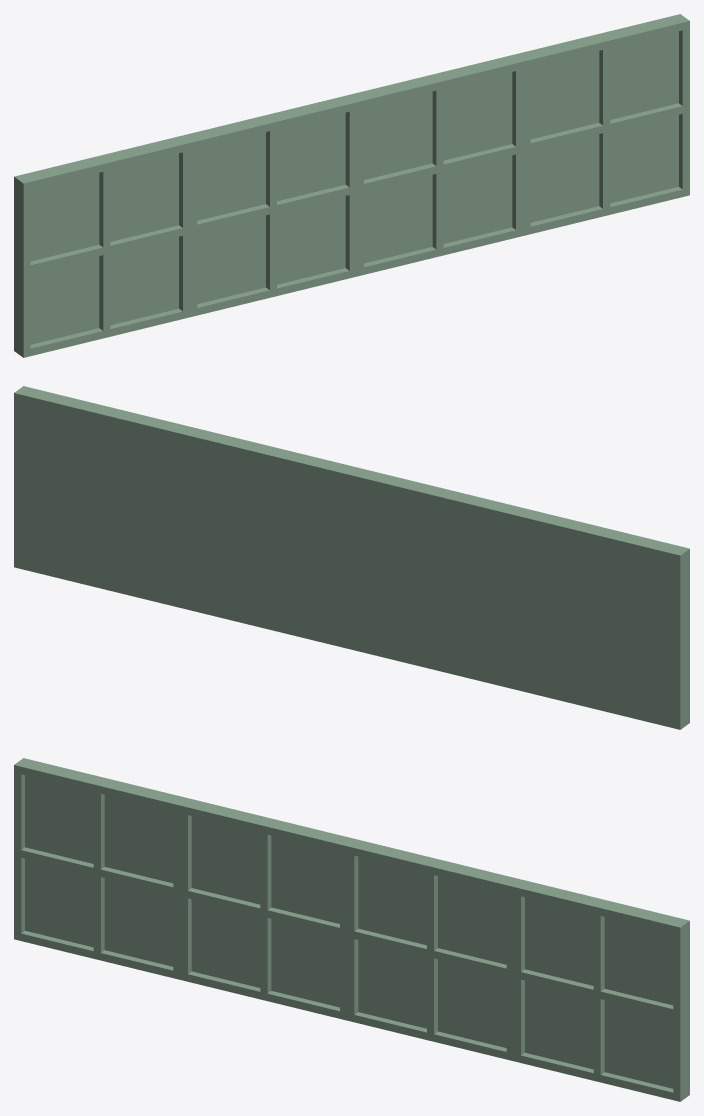
File: LockFrames.fbx
3 views of the same model, one above another, from view 1: azimuth 30°, elevation 25°; view 2: azimuth 150°, elevation 25°; view 3: azimuth 330°, elevation 25° (orthographic).
Parts seen in each view (by area): view 1: MainFrame, MainFrame2, MainFrame1, MainFrame3; view 2: MainFrame, MainFrame2, MainFrame1, MainFrame3; view 3: MainFrame3, MainFrame1, MainFrame2, MainFrame.
Boxes of the visible parts, x1=… form: MainFrame: x1=14, y1=136, x2=190, y2=357; MainFrame2: x1=347, y1=54, x2=523, y2=276; MainFrame1: x1=181, y1=95, x2=356, y2=317; MainFrame3: x1=514, y1=14, x2=689, y2=235; MainFrame: x1=513, y1=508, x2=689, y2=729; MainFrame2: x1=180, y1=426, x2=356, y2=648; MainFrame1: x1=347, y1=467, x2=522, y2=689; MainFrame3: x1=14, y1=386, x2=189, y2=607; MainFrame3: x1=513, y1=880, x2=689, y2=1101; MainFrame1: x1=180, y1=798, x2=356, y2=1020; MainFrame2: x1=347, y1=839, x2=522, y2=1061; MainFrame: x1=14, y1=758, x2=189, y2=979.
Bounding box in the file's own units: 138 × 34.5 × 3.43.
